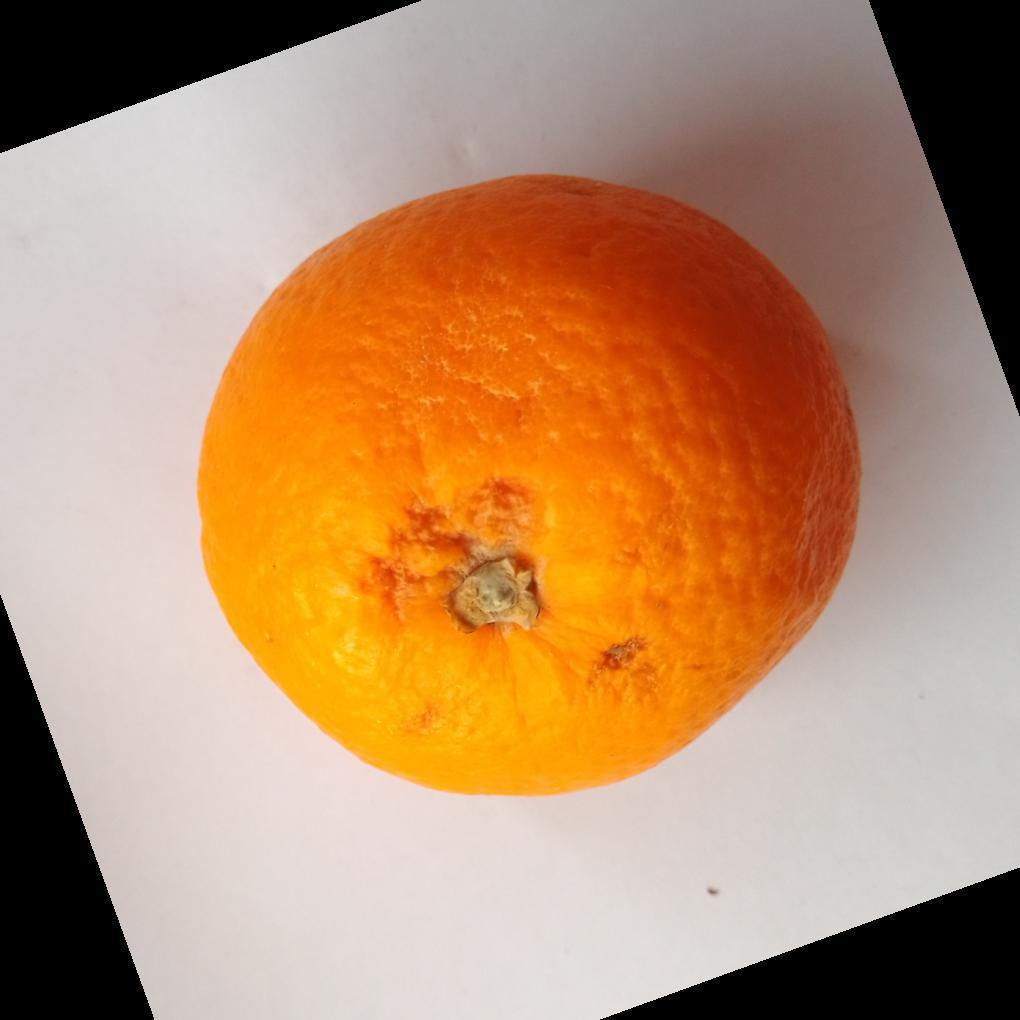FreshGuava: (194, 174, 863, 801)
